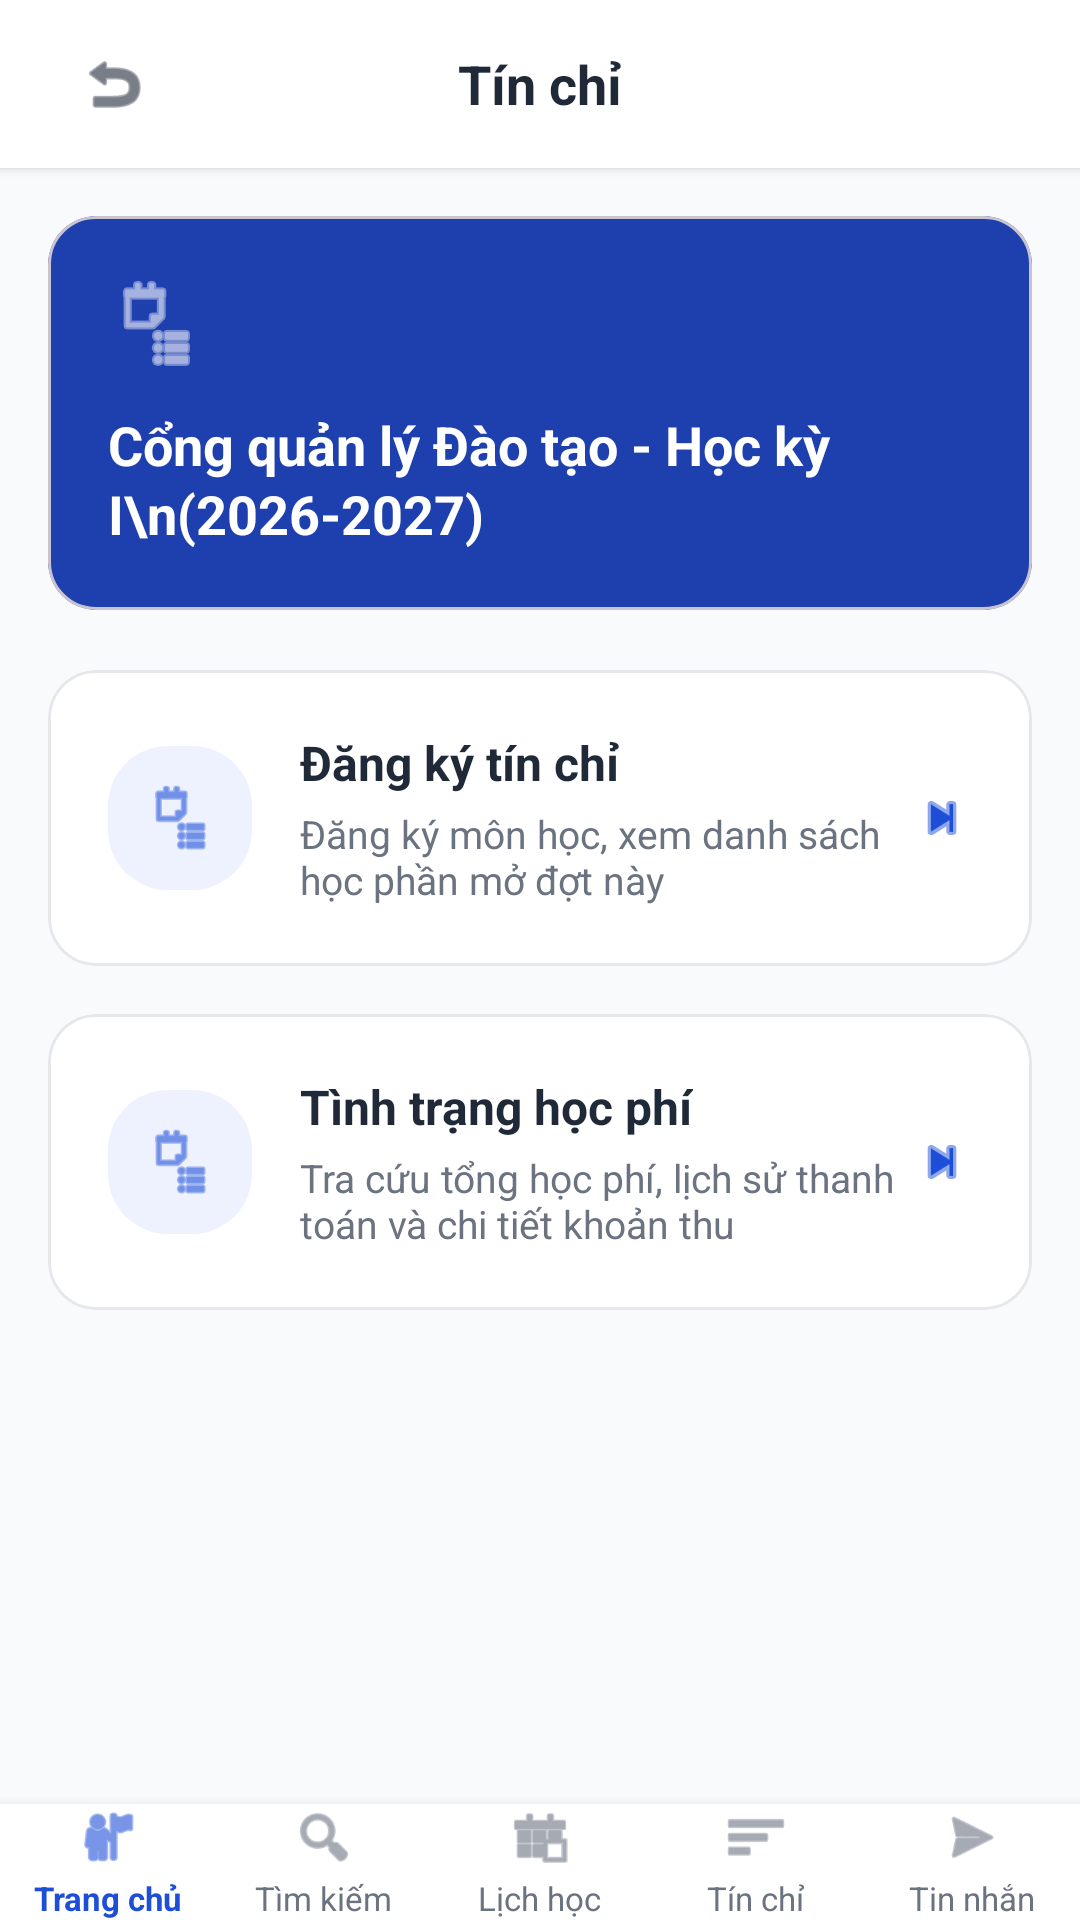

Screen size 1080*1920. Icon name, then its center in pixels as [x,y]:
agenda: [156,323], [180,818], [180,1162]
Back: [115,84]
Next: [942,818], [942,1162]
